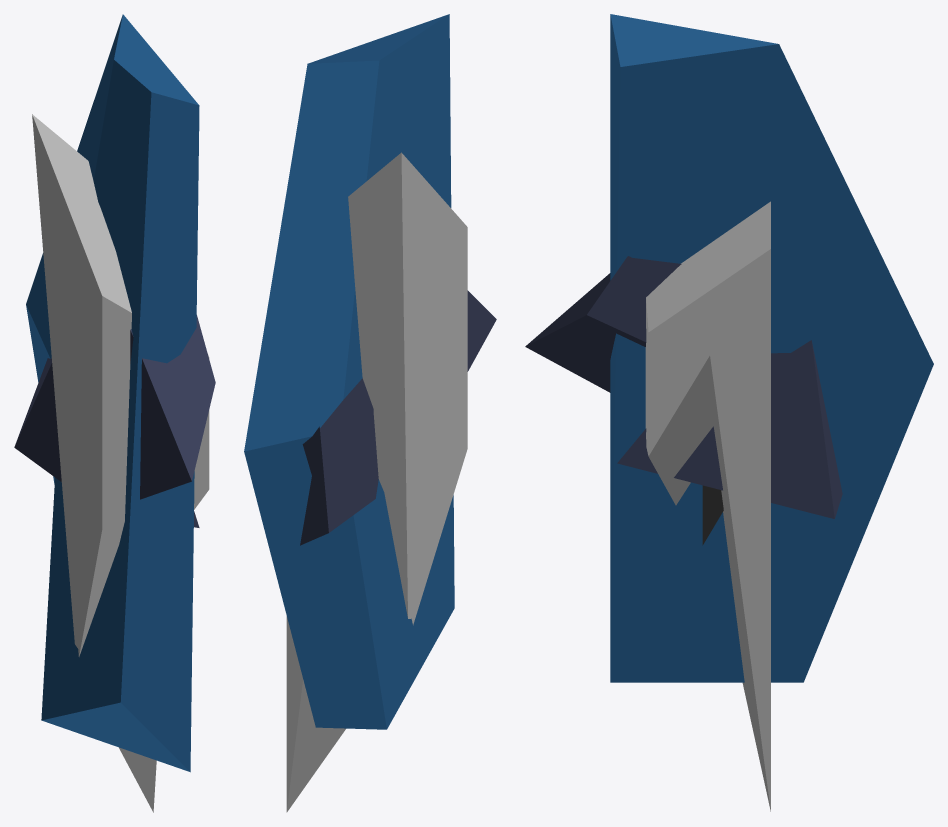
File: Garage_Particles.fbx
The picture shows the model from 3 angles, left to right: view 1: azimuth 30°, elevation 25°; view 2: azimuth 150°, elevation 25°; view 3: azimuth 270°, elevation 25°; orthographic projection. The views are drawn at different scales.
Visible parts, largest first — view 1: Garage_Side_Particle, Garage_Wood_Particle, Garage_Window_Particle; view 2: Garage_Side_Particle, Garage_Wood_Particle, Garage_Window_Particle; view 3: Garage_Side_Particle, Garage_Wood_Particle, Garage_Window_Particle, Garage_Metal_Particle.
Part boxes in pixels (<box>): Garage_Side_Particle: <box>26,14,199,772</box>; Garage_Wood_Particle: <box>32,114,209,812</box>; Garage_Window_Particle: <box>14,315,215,527</box>; Garage_Side_Particle: <box>244,14,454,729</box>; Garage_Wood_Particle: <box>286,152,467,812</box>; Garage_Window_Particle: <box>300,290,496,545</box>; Garage_Side_Particle: <box>610,14,933,682</box>; Garage_Wood_Particle: <box>645,201,770,811</box>; Garage_Window_Particle: <box>525,256,842,518</box>; Garage_Metal_Particle: <box>702,485,723,545</box>.
Size of the model in its own units: 97.8 by 31.65 by 200.
